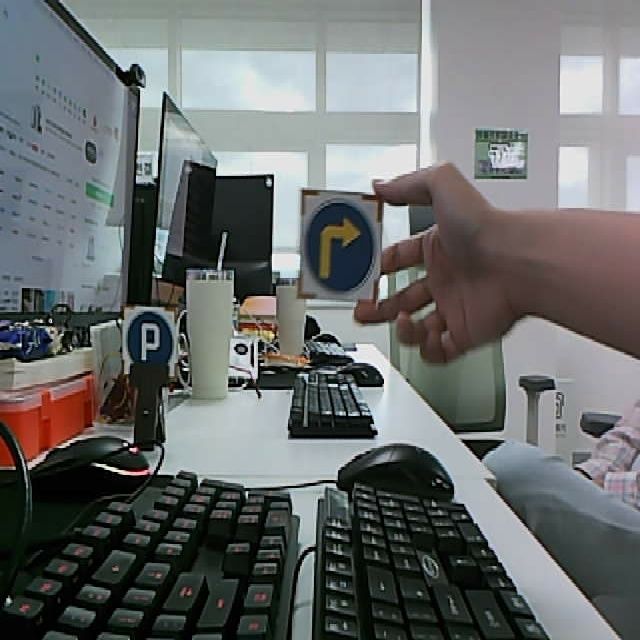right: (298, 188, 384, 306)
